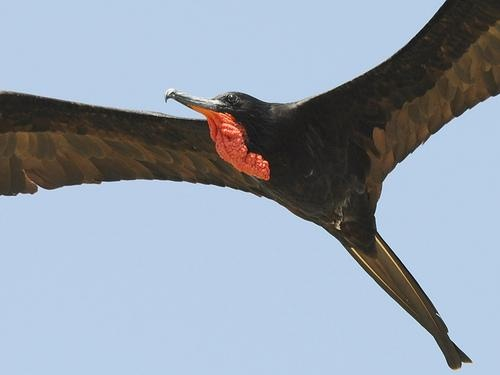bird: (1, 1, 500, 371)
